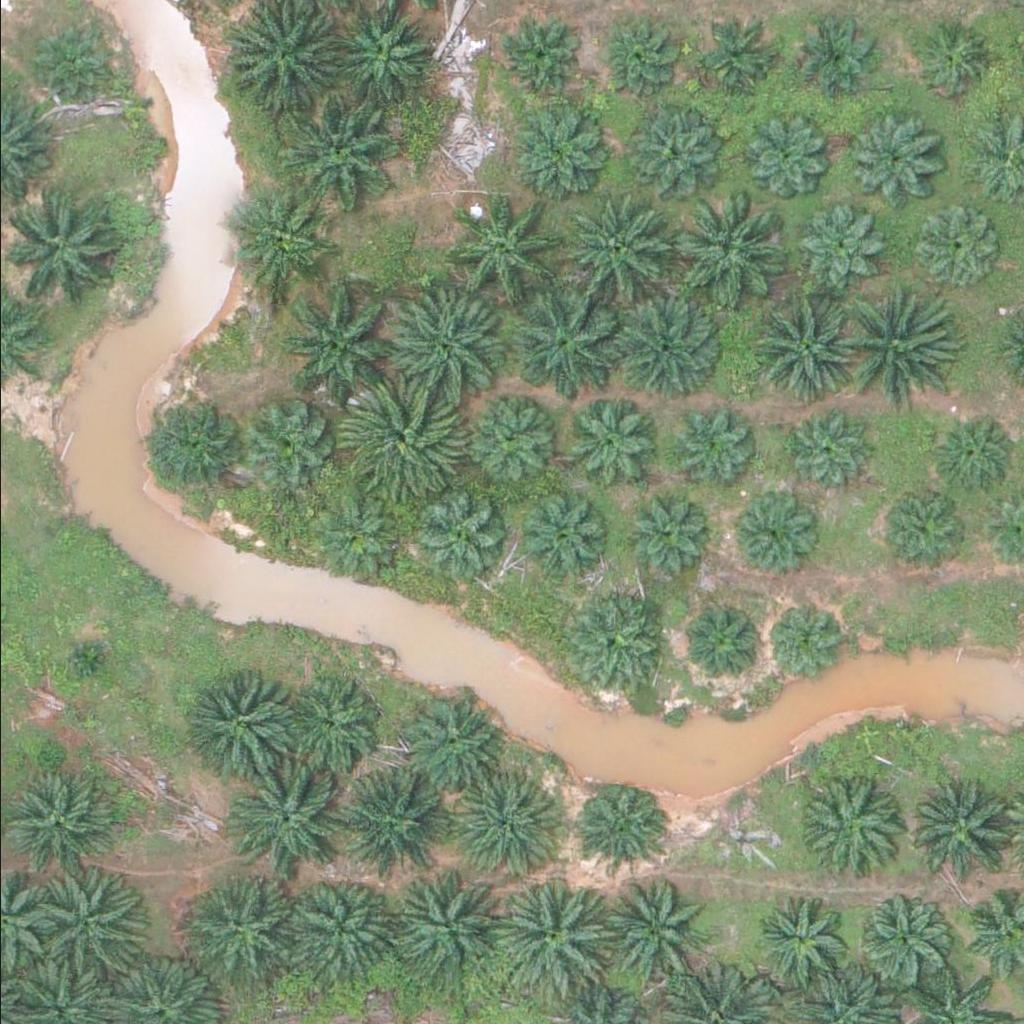Kelapa_Sawit: (288, 878, 402, 991), (383, 869, 497, 982), (447, 767, 561, 880), (610, 284, 724, 397), (177, 666, 290, 779), (8, 192, 121, 305), (347, 383, 460, 496), (834, 291, 947, 404), (513, 288, 626, 401), (339, 766, 453, 878), (896, 776, 1010, 888), (385, 295, 499, 407), (186, 870, 299, 982), (38, 870, 151, 982), (229, 758, 342, 870), (284, 284, 397, 396), (284, 95, 397, 207), (607, 880, 720, 992), (493, 884, 606, 996), (741, 289, 854, 401), (447, 196, 560, 308), (556, 196, 669, 308), (668, 192, 781, 304), (279, 673, 380, 773), (852, 886, 953, 986), (756, 890, 857, 990), (800, 779, 901, 879), (567, 592, 668, 692), (506, 484, 607, 584), (613, 101, 714, 201), (332, 2, 433, 102), (399, 692, 500, 792), (2, 773, 102, 873), (145, 394, 245, 494), (224, 191, 324, 291), (461, 394, 561, 494), (557, 398, 657, 498), (508, 100, 608, 200), (250, 398, 338, 486), (24, 14, 112, 102), (876, 481, 964, 569), (315, 495, 403, 583), (666, 404, 754, 492), (840, 113, 928, 201), (739, 113, 827, 201), (491, 12, 579, 100), (908, 14, 996, 102), (907, 203, 995, 291), (579, 780, 667, 867), (928, 410, 1016, 497), (780, 403, 868, 490), (723, 492, 811, 579), (677, 599, 765, 686), (407, 493, 495, 580), (628, 488, 716, 575), (601, 10, 689, 97), (698, 18, 786, 105), (795, 10, 883, 97), (794, 202, 882, 289), (762, 602, 838, 677), (64, 631, 115, 681)
